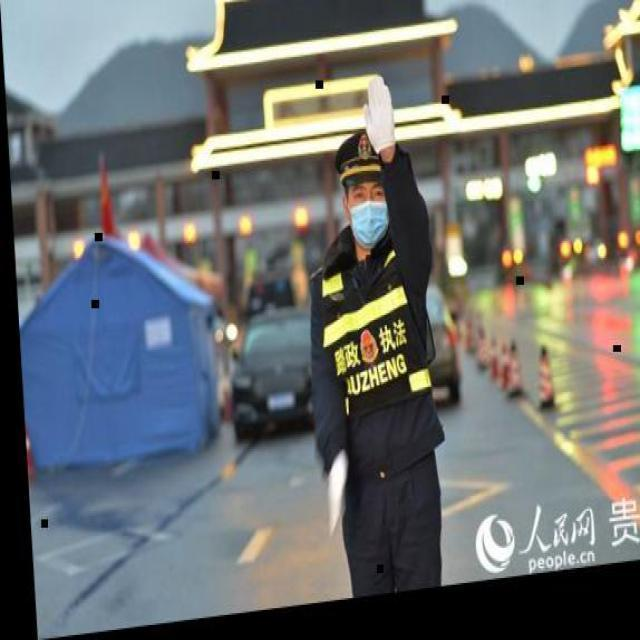safety_helmet: (314, 268, 440, 442)
